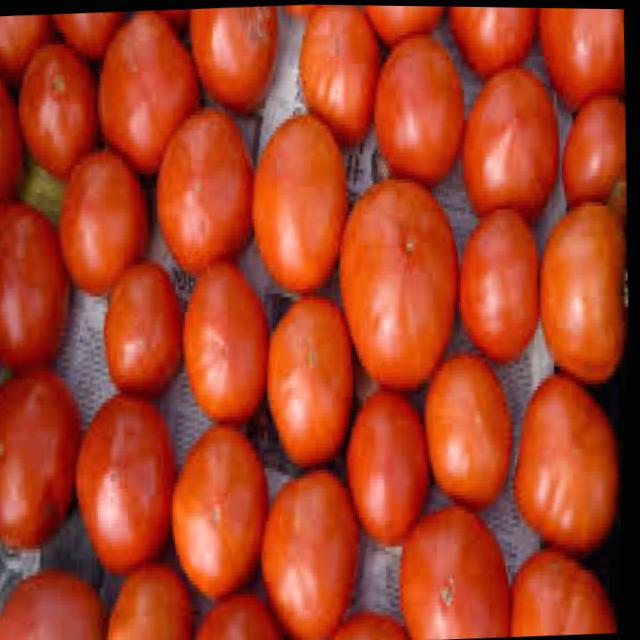tomato: (332, 174, 472, 398), (509, 364, 630, 560), (90, 7, 213, 187), (73, 391, 188, 579), (149, 99, 265, 284), (167, 421, 281, 609), (246, 110, 359, 299), (257, 462, 373, 640), (532, 197, 634, 392), (261, 292, 367, 472), (176, 258, 281, 434), (456, 61, 570, 219), (369, 30, 476, 191), (53, 145, 161, 302), (420, 351, 522, 515), (398, 501, 520, 638), (341, 387, 443, 548), (293, 3, 393, 156), (454, 205, 549, 366), (0, 197, 79, 376), (100, 258, 194, 403), (12, 42, 103, 187), (185, 4, 286, 120), (534, 6, 627, 116), (512, 542, 624, 632), (558, 92, 630, 210), (0, 566, 114, 640), (443, 5, 543, 82), (109, 559, 204, 640), (200, 580, 291, 640), (50, 10, 138, 65), (363, 4, 457, 55), (0, 60, 32, 206), (0, 13, 55, 79)
